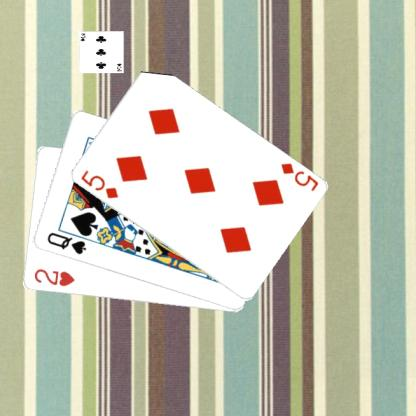2H: (30, 266, 76, 288)
5D: (77, 167, 120, 200), (277, 160, 320, 192)
QS: (44, 230, 87, 256)
